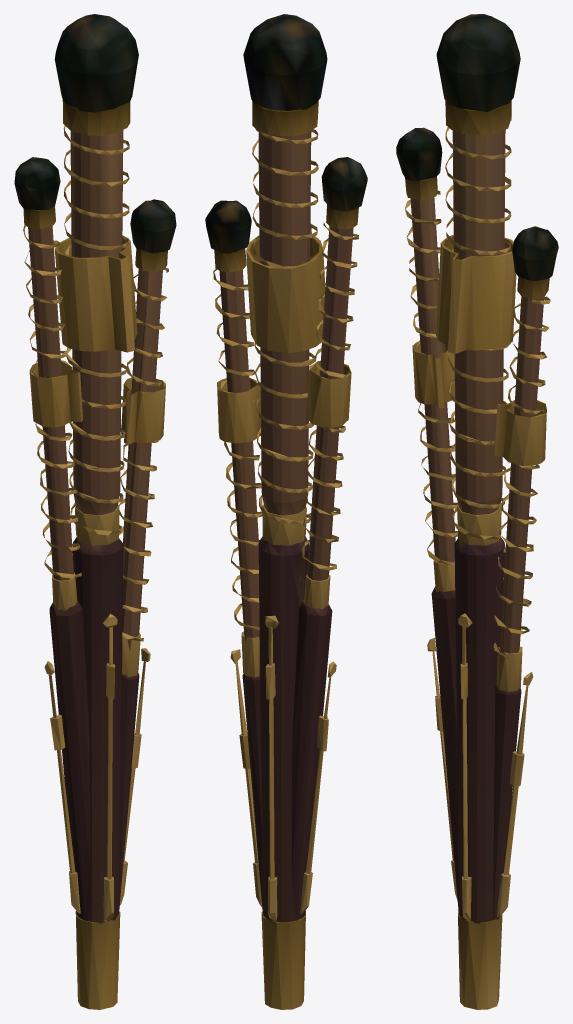
The model's file is gold_decorated_sword_ef6631dc.glb.
3 renders of one model, left to right at view 1: azimuth 30°, elevation 25°; view 2: azimuth 150°, elevation 25°; view 3: azimuth 330°, elevation 25°, orthographic.
Parts seen in each view (by area): view 1: SM_24WA0018_SM_24WA0018_0; view 2: SM_24WA0018_SM_24WA0018_0; view 3: SM_24WA0018_SM_24WA0018_0.
Boxes of the visible parts, x1,y1,x2,y2 form: SM_24WA0018_SM_24WA0018_0: (14,14,176,1009); SM_24WA0018_SM_24WA0018_0: (205,14,367,1009); SM_24WA0018_SM_24WA0018_0: (396,14,558,1009).
Size of the model in its own units: 0.0362 by 0.2176 by 0.0208.
